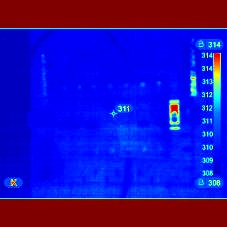Less: (171, 113, 181, 125)
